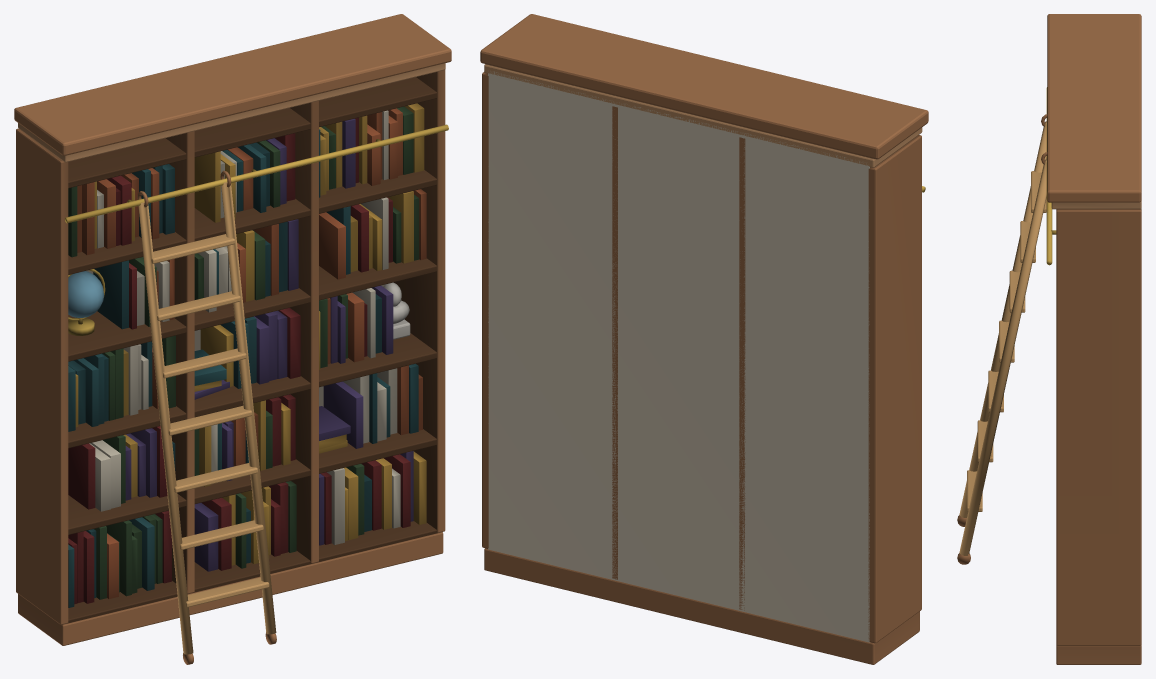
Rendered from libraryWall.glb.
3 views of the same model, side by side, from view 1: azimuth 30°, elevation 25°; view 2: azimuth 150°, elevation 25°; view 3: azimuth 270°, elevation 25° (orthographic). The views are drawn at different scales.
Parts seen in each view (by area): view 1: body, ladder; view 2: body; view 3: body, ladder.
Part boxes in pixels (x1,y1,x2,y2): body: [14, 14, 451, 645]; ladder: [137, 170, 276, 664]; body: [480, 14, 928, 664]; body: [1046, 14, 1141, 664]; ladder: [957, 114, 1047, 564].
Bounding box in the file's own units: 1.88 × 2.34 × 0.82.
